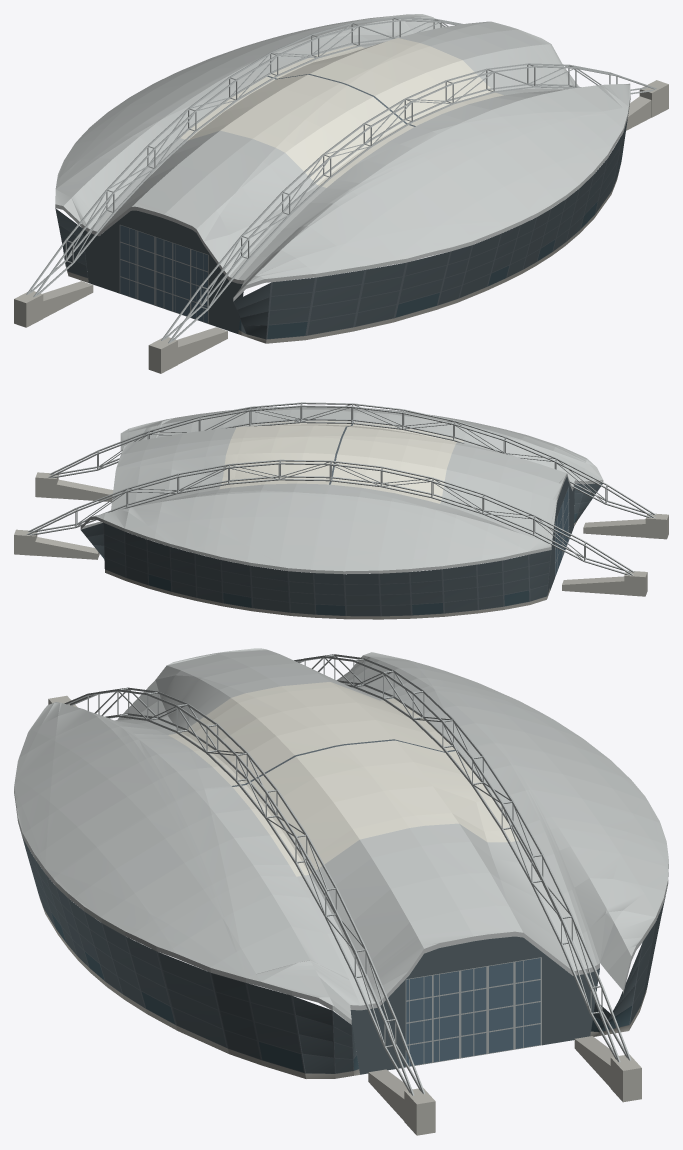
The model's file is att-stadium-far.glb.
3 views of the same model, one above another, from view 1: azimuth 30°, elevation 25°; view 2: azimuth 150°, elevation 25°; view 3: azimuth 270°, elevation 25° (orthographic). The views are drawn at different scales.
Visible parts, largest first — view 1: att-stadium-0-roof, att-stadium-0-glass, att-stadium-0-membrane, att-stadium-0-steel, att-stadium-0-concrete, att-stadium-0-door, att-stadium-0-seam, att-stadium-0-glow; view 2: att-stadium-0-roof, att-stadium-0-glass, att-stadium-0-steel, att-stadium-0-membrane, att-stadium-0-concrete, att-stadium-0-seam, att-stadium-0-glow, att-stadium-0-door; view 3: att-stadium-0-roof, att-stadium-0-membrane, att-stadium-0-glass, att-stadium-0-steel, att-stadium-0-door, att-stadium-0-concrete, att-stadium-0-seam, att-stadium-0-glow.
Part boxes in pixels (box(x1,y1,x2,y2)): att-stadium-0-roof: box(55, 14, 630, 301); att-stadium-0-glass: box(56, 106, 629, 338); att-stadium-0-membrane: box(181, 38, 503, 187); att-stadium-0-steel: box(26, 17, 656, 343); att-stadium-0-concrete: box(14, 80, 668, 373); att-stadium-0-door: box(120, 225, 207, 323); att-stadium-0-seam: box(55, 74, 627, 339); att-stadium-0-glow: box(239, 147, 623, 338); att-stadium-0-roof: box(80, 407, 603, 574); att-stadium-0-glass: box(81, 476, 602, 615); att-stadium-0-steel: box(26, 402, 656, 577); att-stadium-0-membrane: box(219, 420, 463, 503); att-stadium-0-concrete: box(14, 472, 668, 619); att-stadium-0-seam: box(81, 421, 602, 616); att-stadium-0-glow: box(99, 513, 577, 615); att-stadium-0-door: box(555, 486, 569, 575); att-stadium-0-roof: box(14, 648, 668, 1024); att-stadium-0-membrane: box(168, 682, 518, 876); att-stadium-0-glass: box(23, 839, 666, 1074); att-stadium-0-steel: box(64, 654, 631, 1095); att-stadium-0-door: box(406, 958, 540, 1065); att-stadium-0-concrete: box(39, 695, 646, 1135); att-stadium-0-seam: box(22, 739, 663, 1073); att-stadium-0-glow: box(51, 913, 632, 1072).
Size of the model in its own units: 393 by 73.81 by 246.
